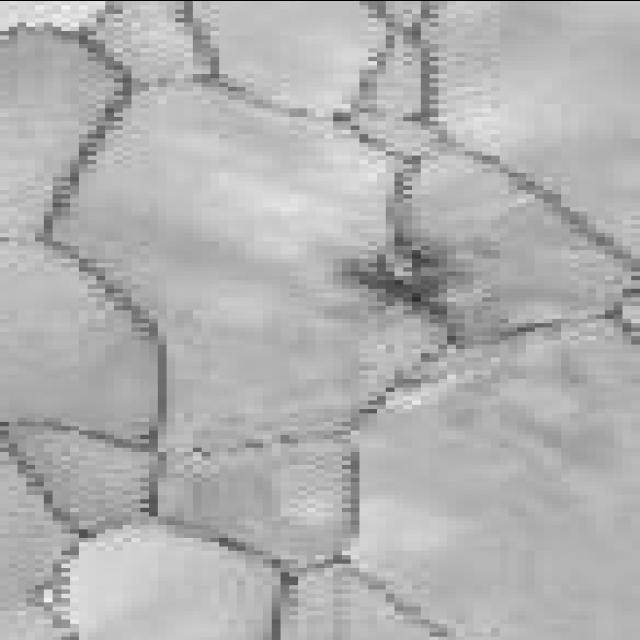good_void: (333, 232, 505, 345)
